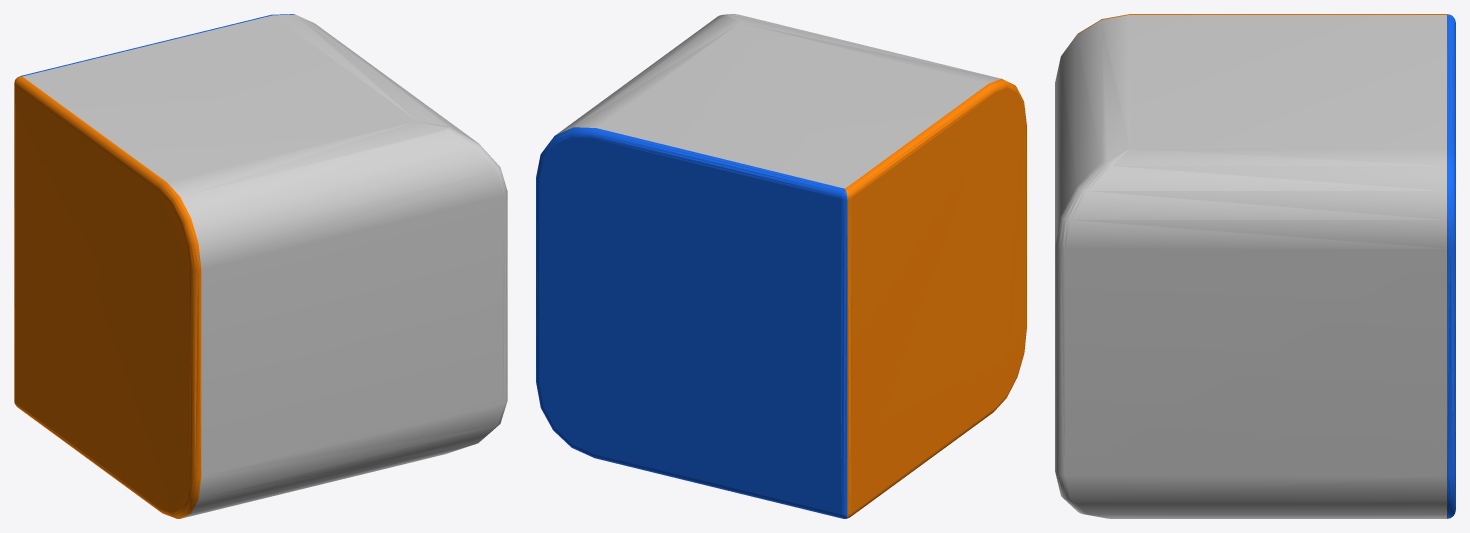
The picture shows the model from 3 angles, left to right: view 1: azimuth 30°, elevation 25°; view 2: azimuth 150°, elevation 25°; view 3: azimuth 270°, elevation 25°; orthographic projection. The views are drawn at different scales.
Visible parts, largest first — view 1: edge_LB; view 2: edge_LB; view 3: edge_LB.
Part boxes in pixels (bbox=[...]): edge_LB: bbox=[14, 14, 507, 518]; edge_LB: bbox=[536, 14, 1026, 518]; edge_LB: bbox=[1055, 14, 1455, 518].
Size of the model in its own units: 0.2003 by 0.2003 by 0.2003.
1 material, 1 textured.
